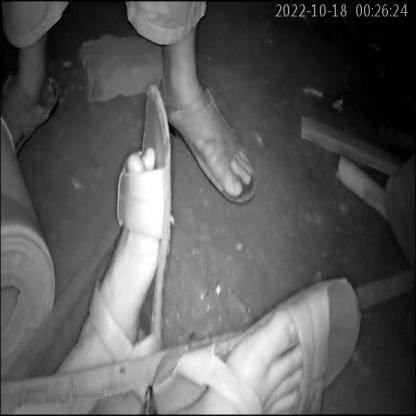leg: (56, 75, 180, 376), (192, 273, 366, 416), (152, 45, 265, 211)
